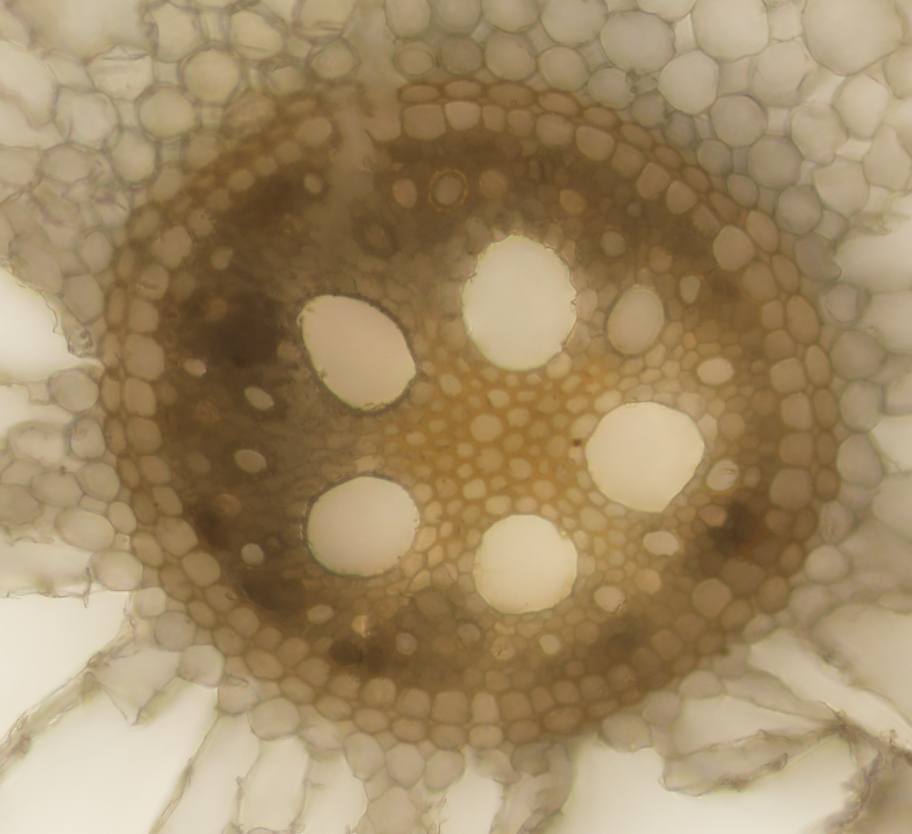lm: (462, 235, 578, 371), (295, 291, 419, 413), (584, 401, 706, 513), (306, 474, 419, 576), (472, 513, 578, 613)
